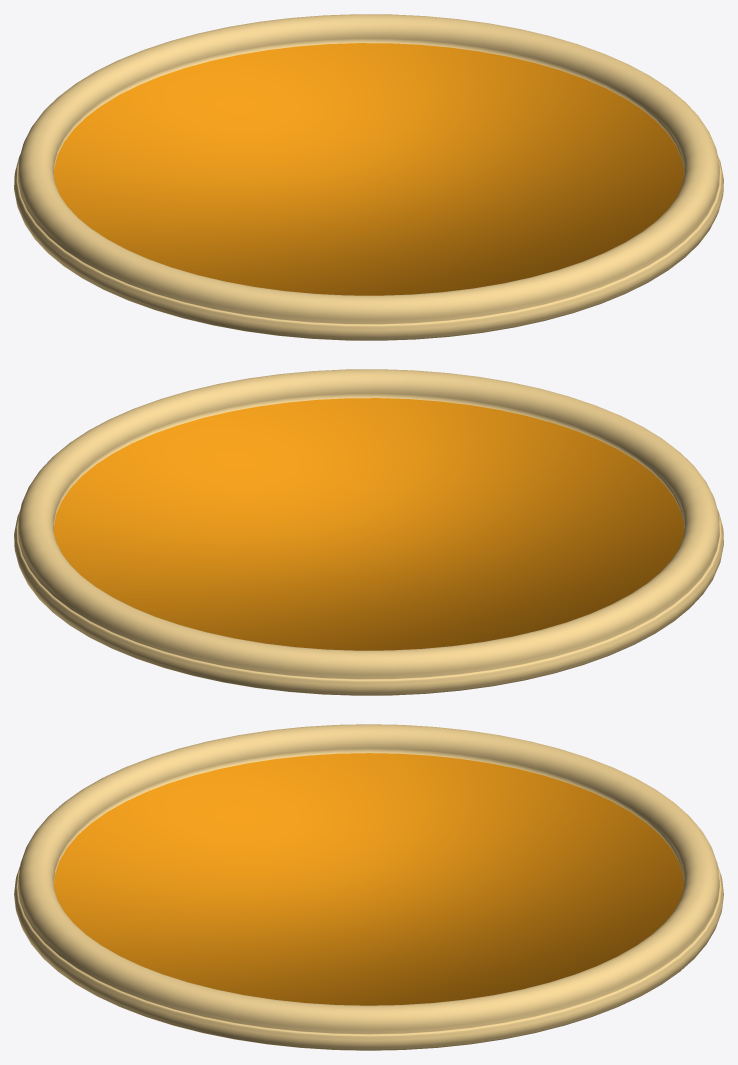
The model's file is BasePizza.fbx.
3 views of the same model, one above another, from view 1: azimuth 30°, elevation 25°; view 2: azimuth 150°, elevation 25°; view 3: azimuth 270°, elevation 25° (orthographic).
Parts seen in each view (by area): view 1: Circle; view 2: Circle; view 3: Circle.
Boxes of the visible parts, x1,y1,x2,y2 form: Circle: (14,14,723,340); Circle: (14,369,723,695); Circle: (14,724,723,1050).
Size of the model in its own units: 161 by 8.8 by 161.
